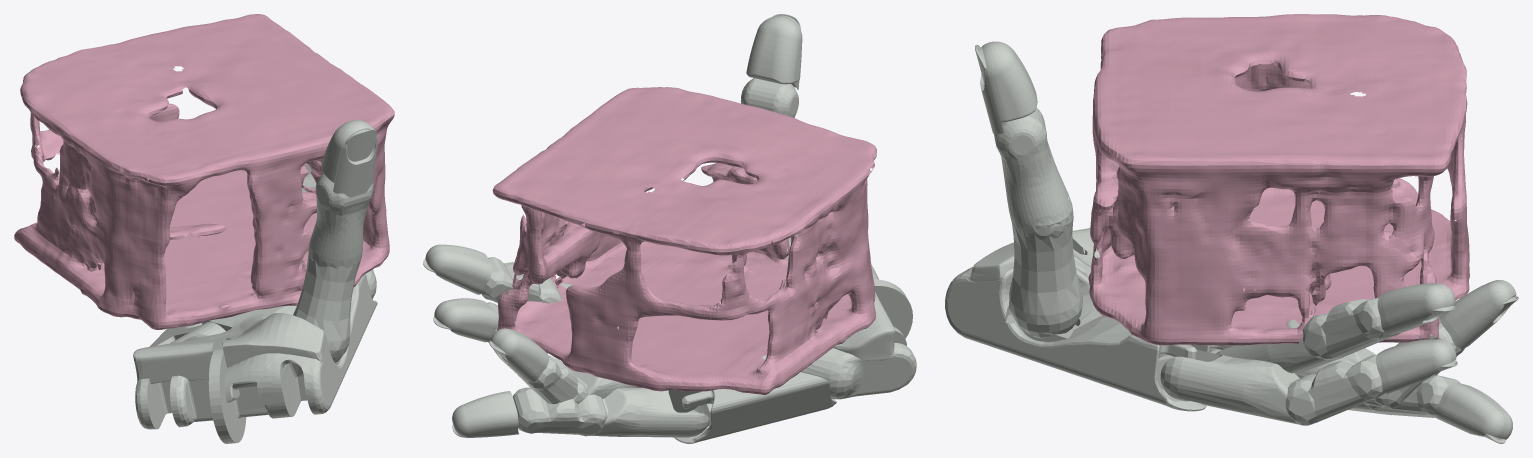
The picture shows the model from 3 angles, left to right: view 1: azimuth 30°, elevation 25°; view 2: azimuth 150°, elevation 25°; view 3: azimuth 270°, elevation 25°; orthographic projection. The views are drawn at different scales.
Parts seen in each view (by area): view 1: world, hand_isaac_q; view 2: world, hand_isaac_q; view 3: world, hand_isaac_q.
Part boxes in pixels (x1=…): world: x1=14, y1=14, x2=394, y2=329; hand_isaac_q: x1=133, y1=120, x2=377, y2=443; world: x1=492, y1=87, x2=876, y2=394; hand_isaac_q: x1=423, y1=14, x2=916, y2=443; world: x1=1088, y1=14, x2=1469, y2=345; hand_isaac_q: x1=945, y1=41, x2=1518, y2=443.
Size of the model in its own units: 0.1617 by 0.1466 by 0.1979.
